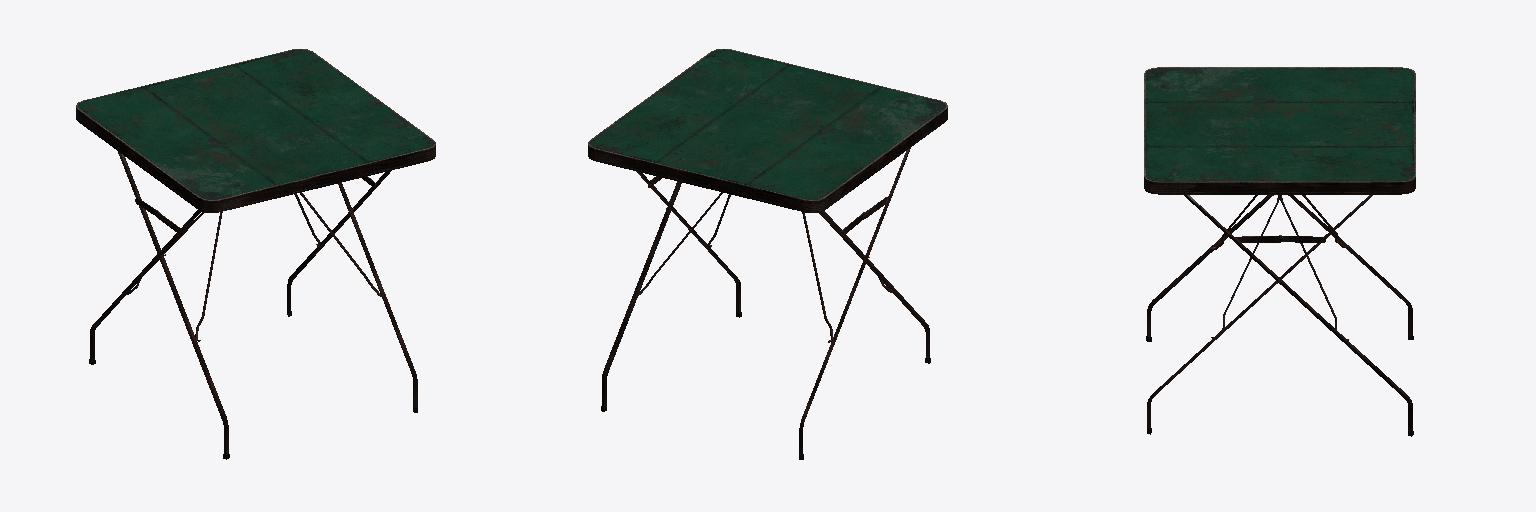
3 renders of one model, left to right at view 1: azimuth 30°, elevation 25°; view 2: azimuth 150°, elevation 25°; view 3: azimuth 270°, elevation 25°, orthographic.
Visible parts, largest first — view 1: Camping_Table_0; view 2: Camping_Table_0; view 3: Camping_Table_0.
Part boxes in pixels (bbox=[...]): Camping_Table_0: bbox=[76, 49, 435, 459]; Camping_Table_0: bbox=[588, 49, 947, 459]; Camping_Table_0: bbox=[1144, 67, 1415, 436].
Bounding box in the file's own units: 52.58 × 56 × 52.56.
1 materials, 1 textured.